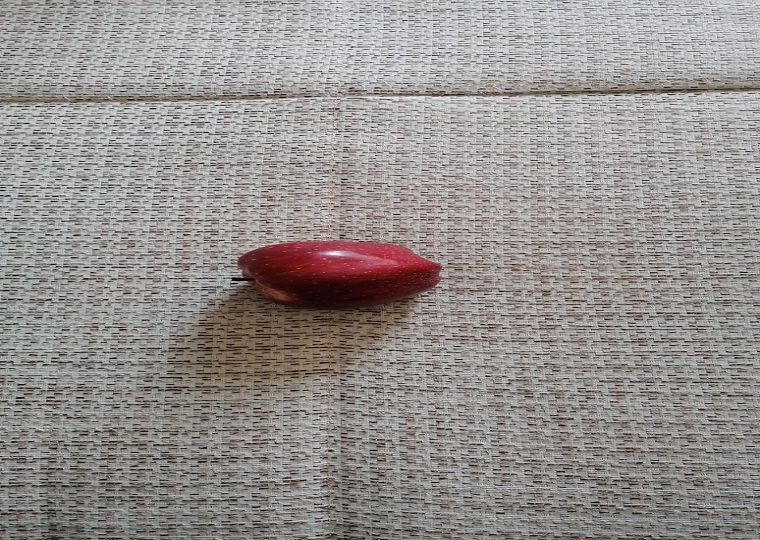elma: (229, 240, 445, 309)
